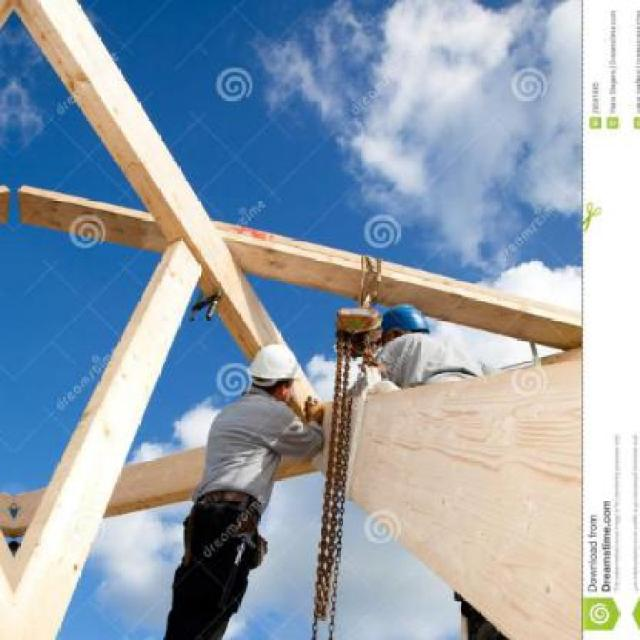helmet: (246, 338, 306, 409), (372, 299, 431, 359)
